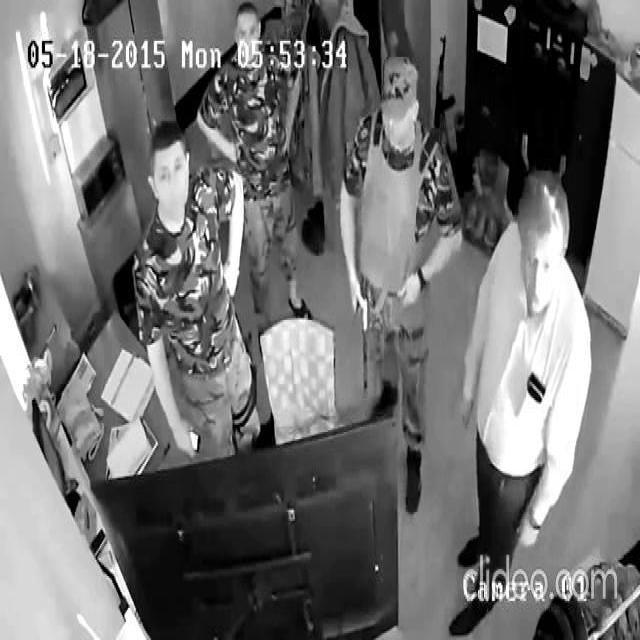pistol: (433, 31, 456, 138), (357, 258, 372, 392)
